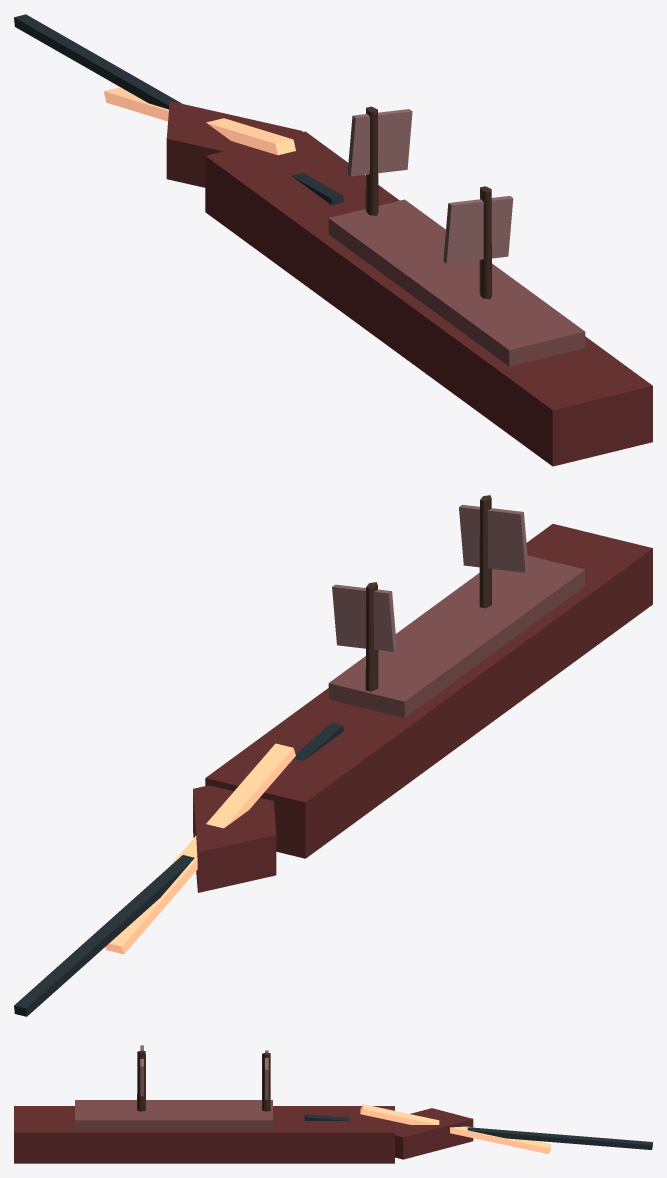
The model's file is ship_main_51_lod2.glb.
3 views of the same model, one above another, from view 1: azimuth 30°, elevation 25°; view 2: azimuth 150°, elevation 25°; view 3: azimuth 270°, elevation 25° (orthographic). The views are drawn at different scales.
Parts seen in each view (by area): view 1: Hull, Deck_0, Bow, LongSpearProw, Sail_1, Sail_0, ProwIdentity, Mast_1, Mast_0; view 2: Hull, Deck_0, Bow, LongSpearProw, ProwIdentity, Sail_1, Sail_0, Mast_1, Mast_0; view 3: Hull, Deck_0, Bow, LongSpearProw, ProwIdentity, Mast_1, Mast_0.
Part boxes in pixels (x1=…): Hull: x1=205, y1=131, x2=652, y2=466; Deck_0: x1=328, y1=199, x2=585, y2=366; Bow: x1=166, y1=101, x2=302, y2=187; LongSpearProw: x1=14, y1=14, x2=343, y2=205; Sail_1: x1=443, y1=196, x2=513, y2=263; Sail_0: x1=347, y1=109, x2=412, y2=176; ProwIdentity: x1=104, y1=87, x2=295, y2=155; Mast_1: x1=479, y1=186, x2=491, y2=299; Mast_0: x1=365, y1=106, x2=378, y2=215; Hull: x1=205, y1=524, x2=652, y2=858; Deck_0: x1=328, y1=555, x2=585, y2=717; Bow: x1=193, y1=785, x2=276, y2=892; LongSpearProw: x1=14, y1=722, x2=343, y2=1016; ProwIdentity: x1=105, y1=743, x2=295, y2=954; Sail_1: x1=459, y1=504, x2=528, y2=572; Sail_0: x1=332, y1=584, x2=396, y2=651; Mast_1: x1=479, y1=495, x2=491, y2=608; Mast_0: x1=365, y1=582, x2=378, y2=691; Hull: x1=14, y1=1106, x2=394, y2=1163; Deck_0: x1=75, y1=1100, x2=272, y2=1129; Bow: x1=395, y1=1108, x2=473, y2=1159; LongSpearProw: x1=304, y1=1114, x2=652, y2=1149; ProwIdentity: x1=360, y1=1104, x2=551, y2=1153; Mast_1: x1=137, y1=1050, x2=145, y2=1111; Mast_0: x1=262, y1=1052, x2=270, y2=1111.
Bounding box in the file's own units: 1.29 × 2.05 × 11.87.
